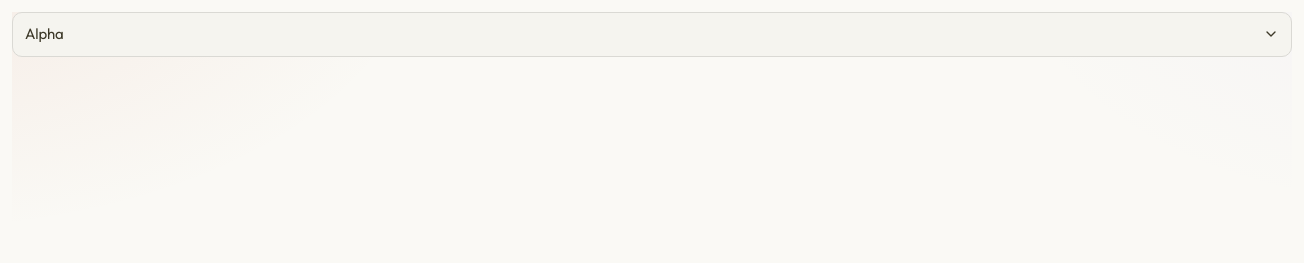
Test: Select › jumps to a matching option as you type
Click the button with aria-label "Status" at coordinates (44, 34), box [12,12,1292,56]
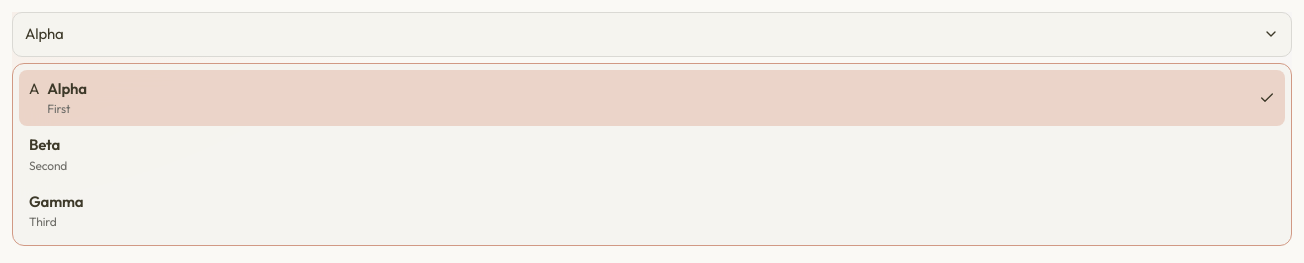
Type keys "g"
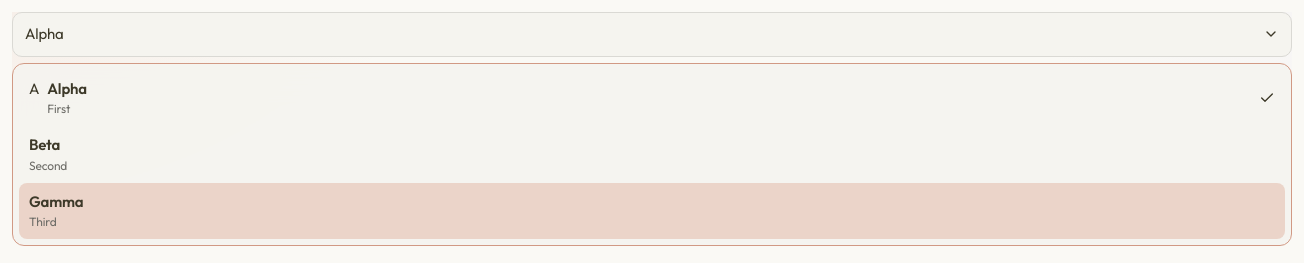
Expected: the option "Gamma Third" has class "on", [19,182,1285,239]
